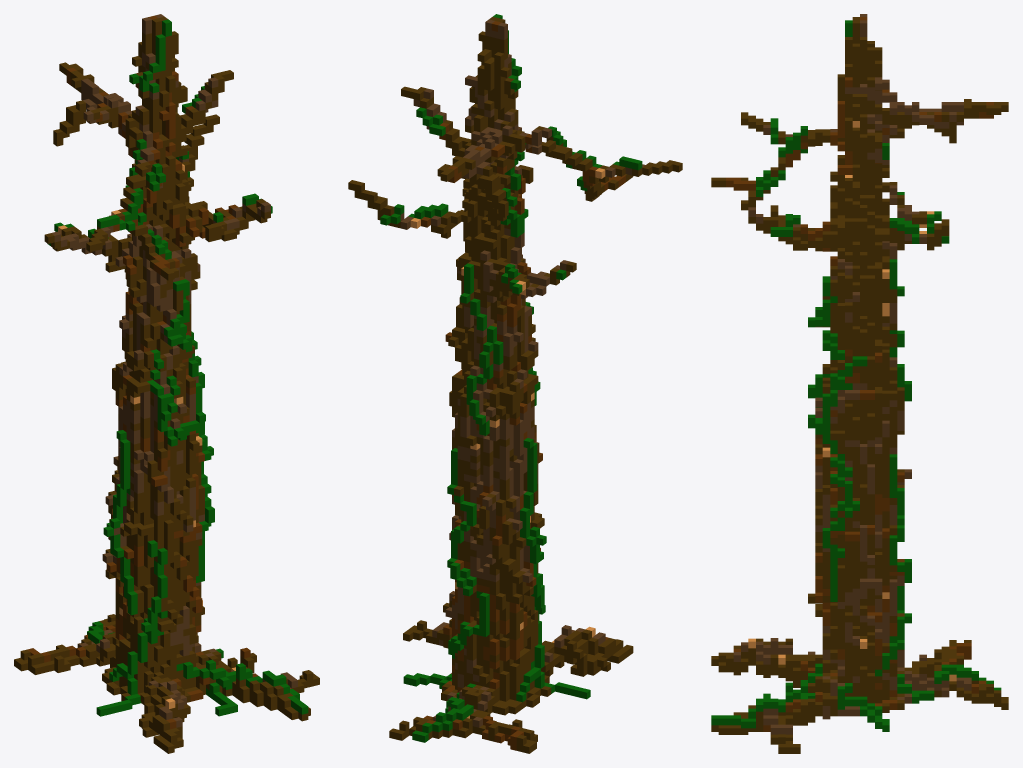
File: BrownTree.obj
The picture shows the model from 3 angles, left to right: view 1: azimuth 30°, elevation 25°; view 2: azimuth 150°, elevation 25°; view 3: azimuth 270°, elevation 25°; orthographic projection.
Bounding box in the file's own units: 3.9 × 10 × 4.
1 material, 1 textured.
